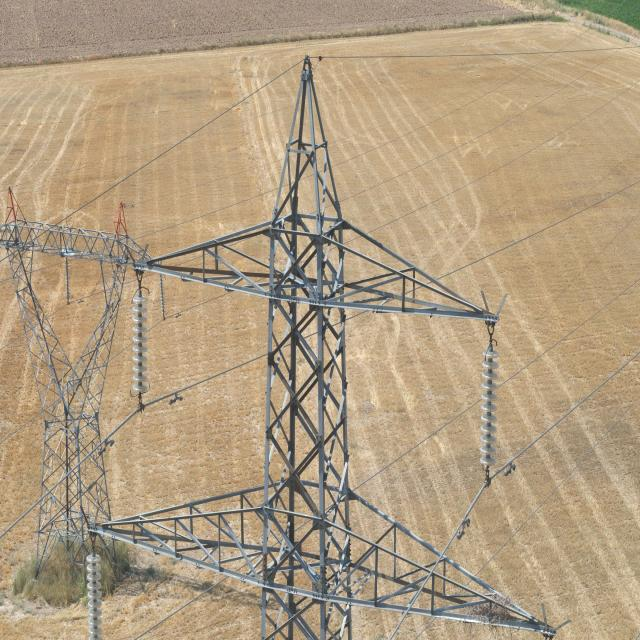voltage_line: (148, 70, 547, 640), (2, 210, 132, 579)
